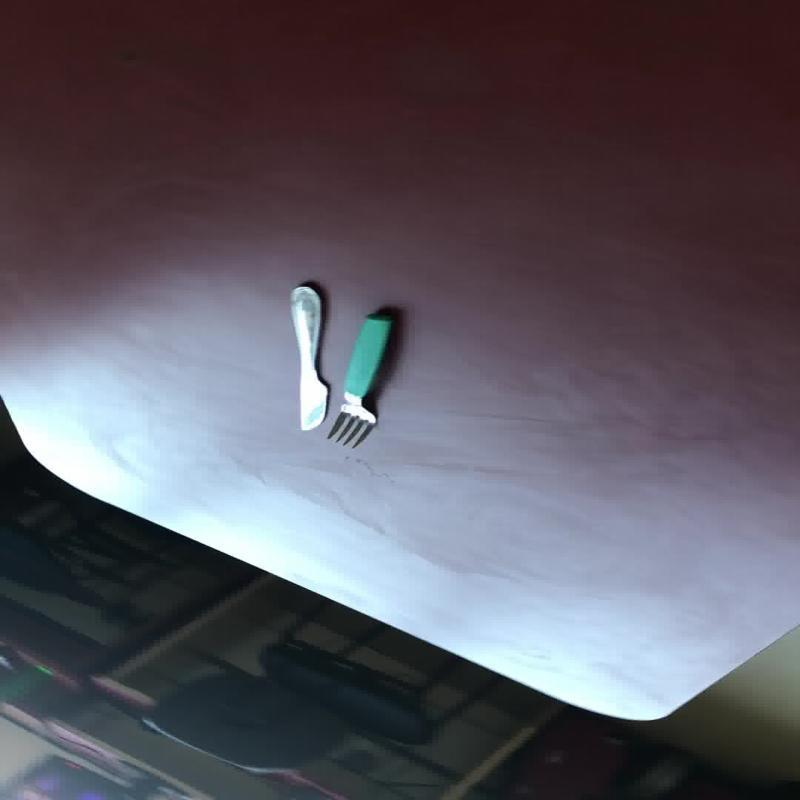fork: (324, 311, 392, 448)
knife: (288, 284, 328, 430)
